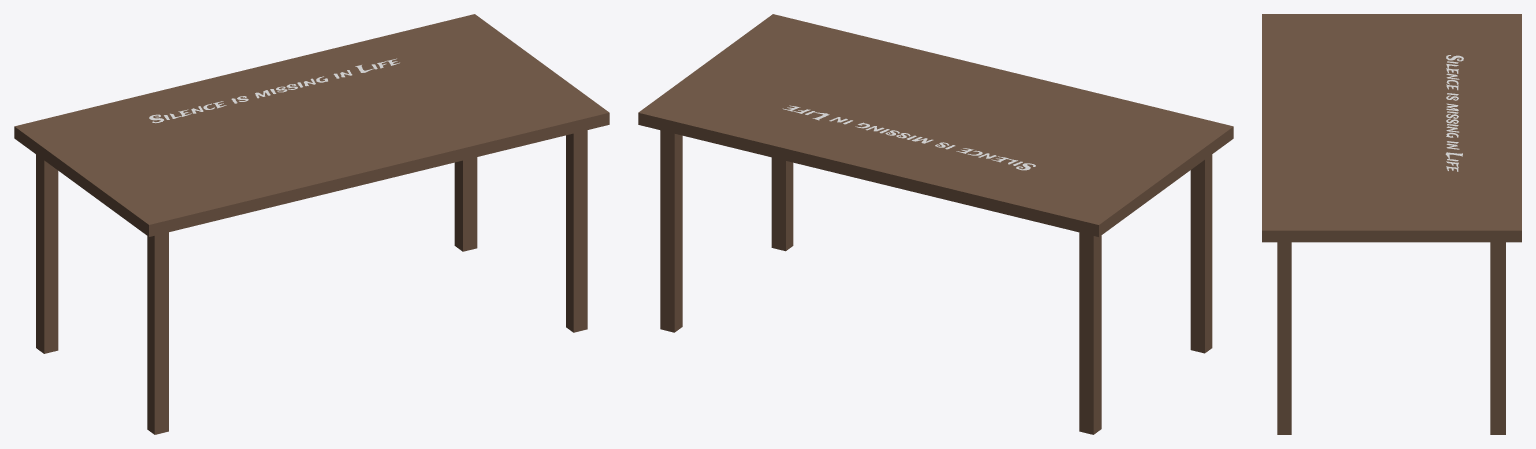
File: Table 1.fbx
3 views of the same model, side by side, from view 1: azimuth 30°, elevation 25°; view 2: azimuth 150°, elevation 25°; view 3: azimuth 270°, elevation 25° (orthographic). The views are drawn at different scales.
Parts seen in each view (by area): view 1: Cube, Text; view 2: Cube, Text; view 3: Cube, Text.
Boxes of the visible parts, bbox=[...] form: Cube: bbox=[14, 14, 609, 434]; Text: bbox=[149, 58, 399, 123]; Cube: bbox=[638, 14, 1233, 434]; Text: bbox=[782, 105, 1035, 170]; Cube: bbox=[1262, 14, 1521, 434]; Text: bbox=[1445, 55, 1463, 171].
Bounding box in the file's own units: 353 × 165 × 179.
